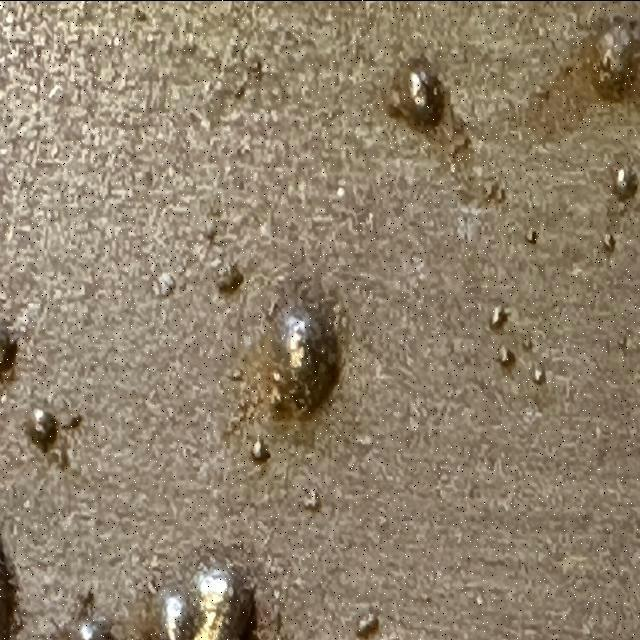Spatters: (260, 305, 336, 418), (582, 15, 640, 102), (189, 568, 252, 640), (388, 58, 444, 130), (155, 585, 192, 640), (26, 407, 58, 452), (216, 263, 244, 297), (614, 167, 638, 200), (81, 618, 114, 640), (356, 612, 379, 638), (251, 437, 270, 463), (490, 305, 508, 328), (304, 488, 321, 510), (499, 345, 515, 368), (62, 413, 82, 428), (602, 232, 615, 253), (532, 363, 545, 383), (226, 367, 244, 380), (525, 228, 538, 242)
